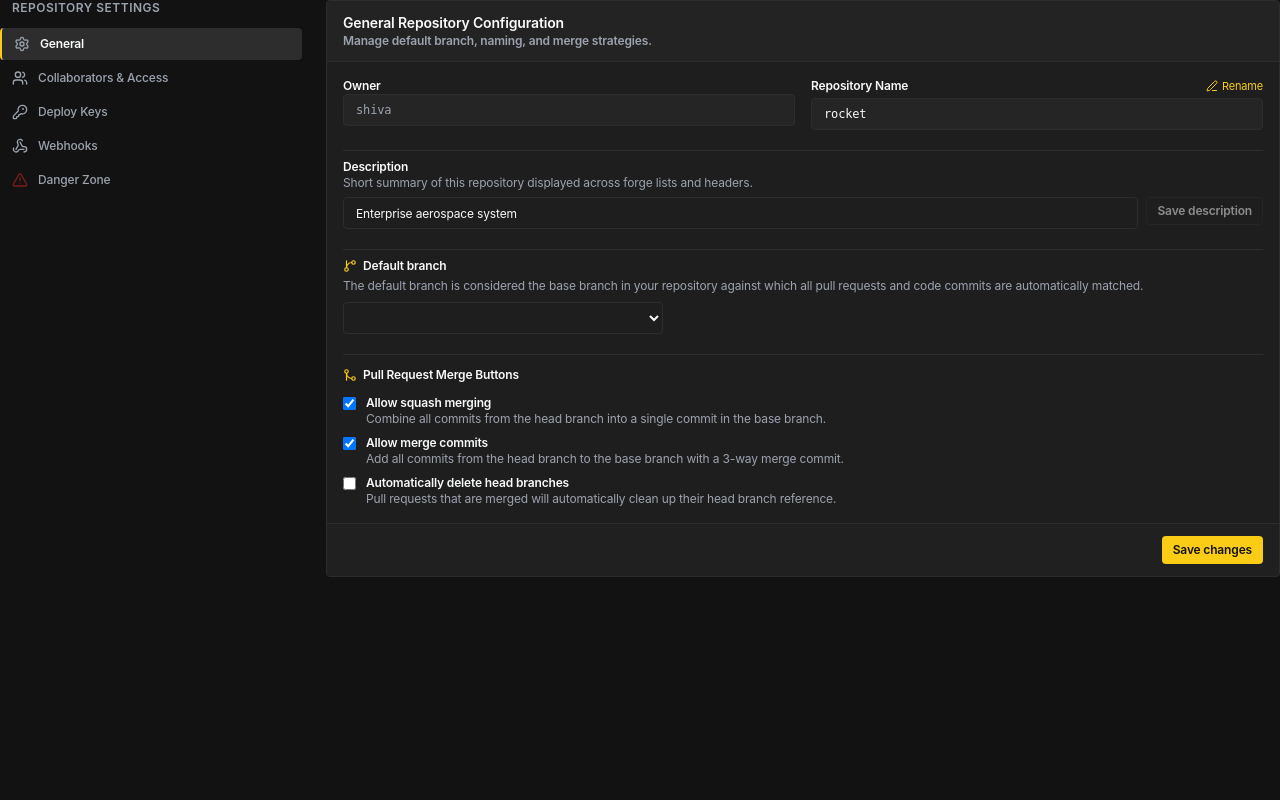
Scenario: RepoSettingsView › switches to Deploy Keys section, displays active keys, and opens Add Deploy Key modal
This screenshot has width=1280, height=800.
Step 1. Click the button "Deploy Keys" → (73, 112), box [0,96,302,128]
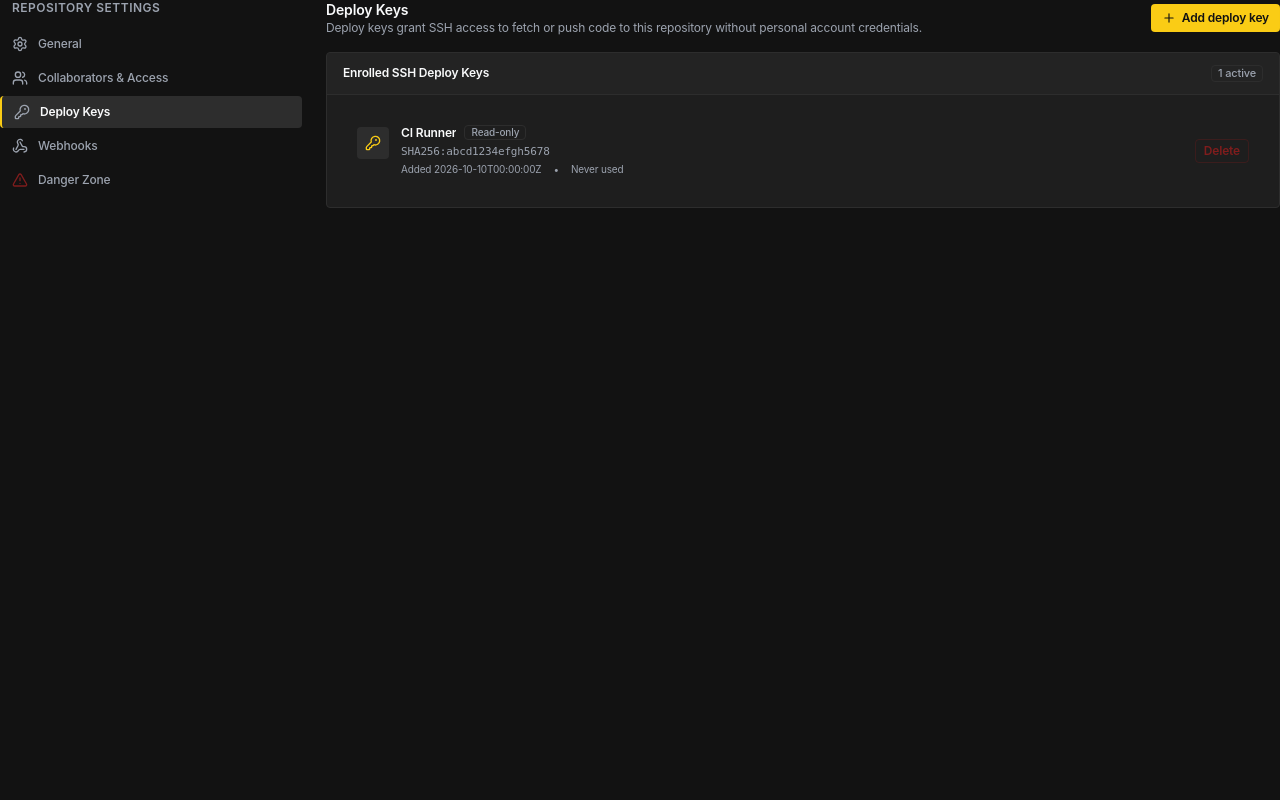
Now the text "CI Runner" is shown, box [401,125,456,141]
Now the text "SHA256:abcd1234efgh5678" is shown, box [401,145,550,158]
Now the text "Read-only" is shown, box [464,125,526,140]
Step 2. Click the button with test id "add-deploy-key-btn" → (1215, 18), box [1151,4,1279,32]
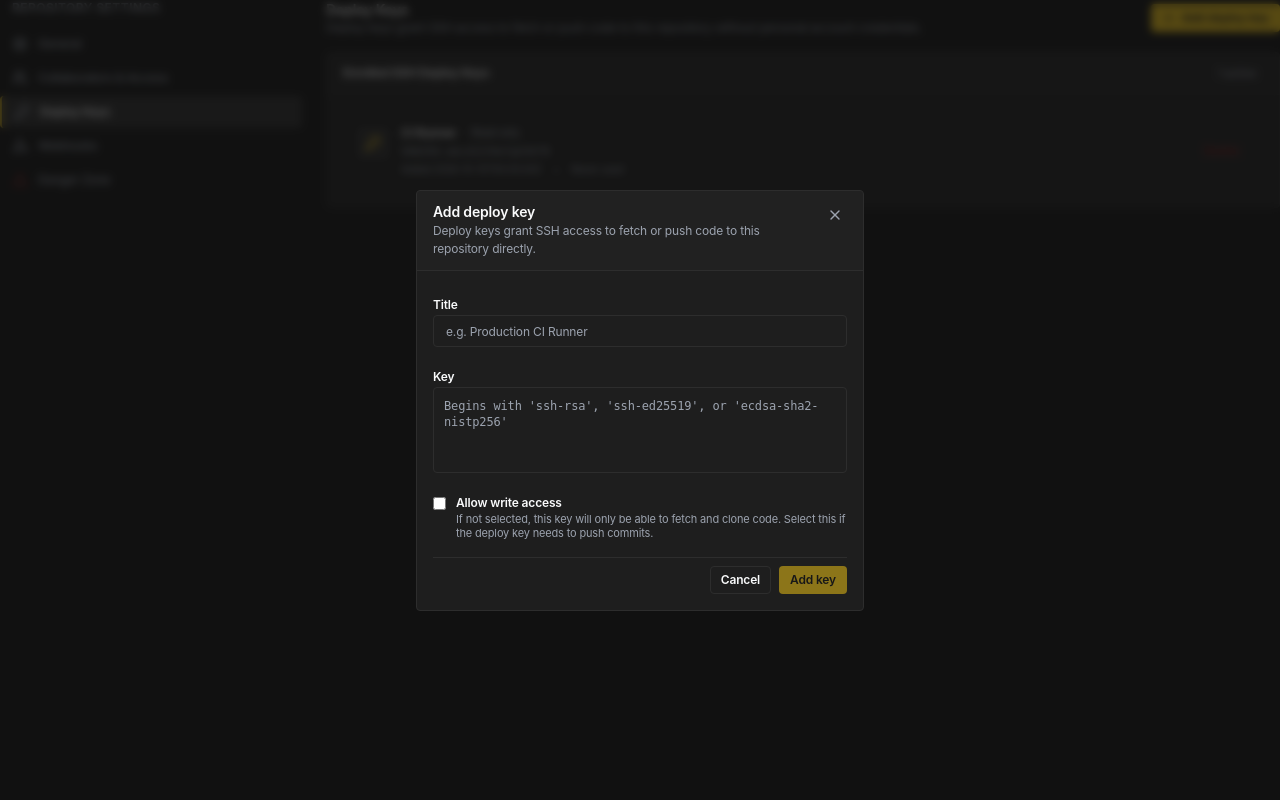
Now the field with test id "deploy-key-title-input" is shown, box [433,315,847,347]
Now the text box with test id "deploy-key-content-input" is shown, box [433,387,847,473]
Now the button with test id "deploy-key-submit-btn" is shown, box [779,566,847,594]
